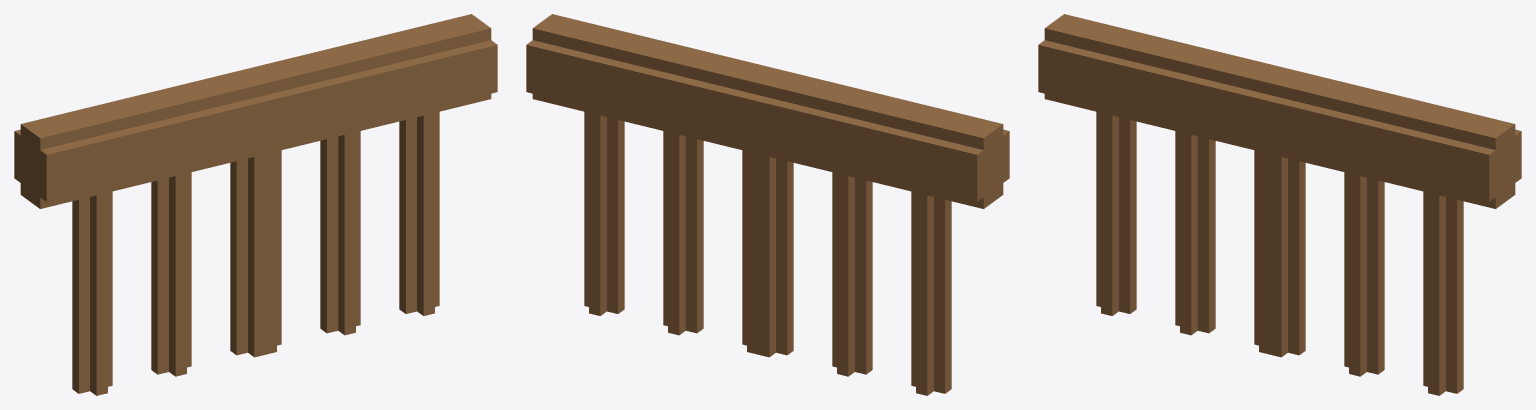
File: maidstage2_fence.fbx
The picture shows the model from 3 angles, left to right: view 1: azimuth 30°, elevation 25°; view 2: azimuth 150°, elevation 25°; view 3: azimuth 330°, elevation 25°; orthographic projection.
Parts seen in each view (by area): view 1: maidstage2fence; view 2: maidstage2fence; view 3: maidstage2fence.
Part boxes in pixels (x1,y1,x2,y2): maidstage2fence: (14,14,497,395); maidstage2fence: (526,14,1009,395); maidstage2fence: (1038,14,1521,395).
Size of the model in its own units: 400 by 230 by 50.
1 material, 1 textured.
